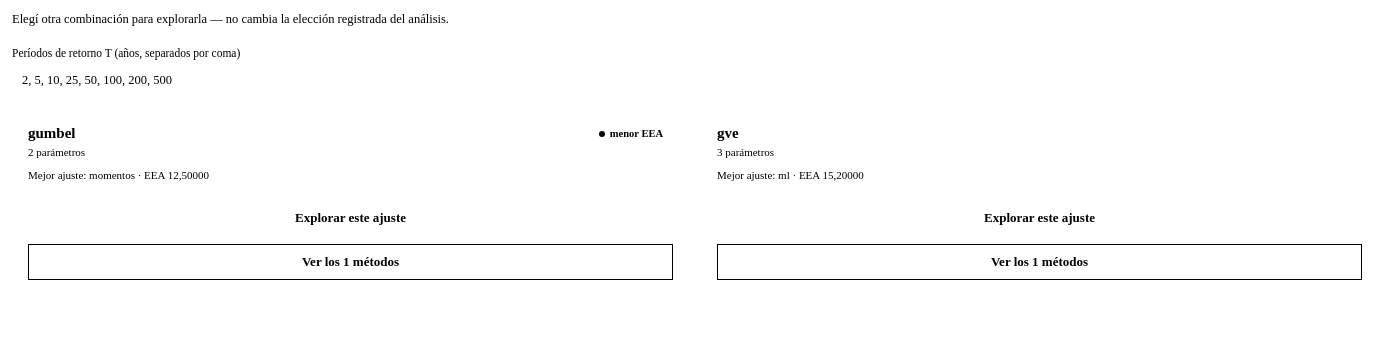
Test case: Etapa2Explorador › si explorar falla con un ApiError con código propio, muestra el texto legible del catálogo
The image size is (1378, 362).
Click the button "Explorar este ajuste" below "momentos" at (350, 218), box [28,200,673,236]
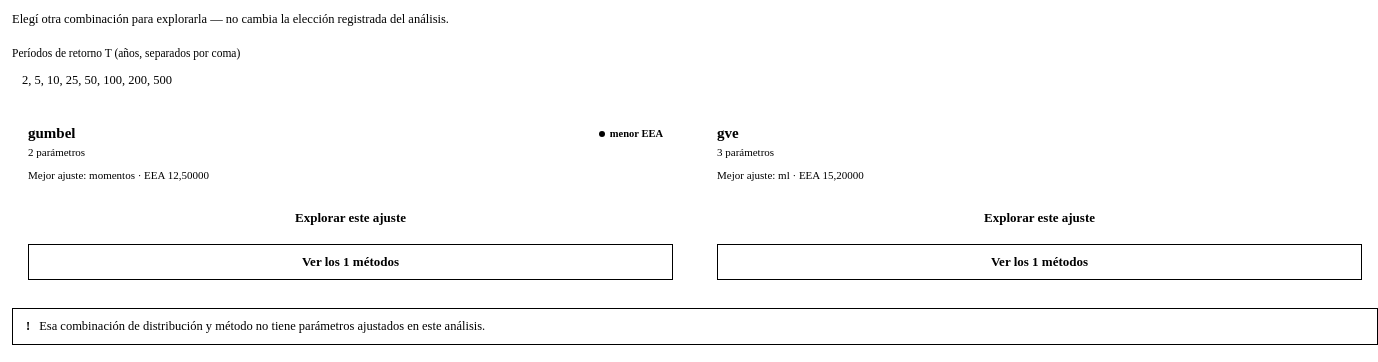
Expected: the message shows "Esa combinación de distribución y método no tiene parámetros ajustados en este análisis.", [39,319,485,333]
